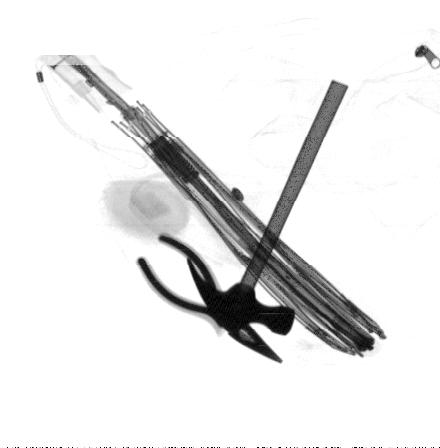Hammer: (187, 80, 350, 337)
Pliers: (136, 231, 285, 365)
